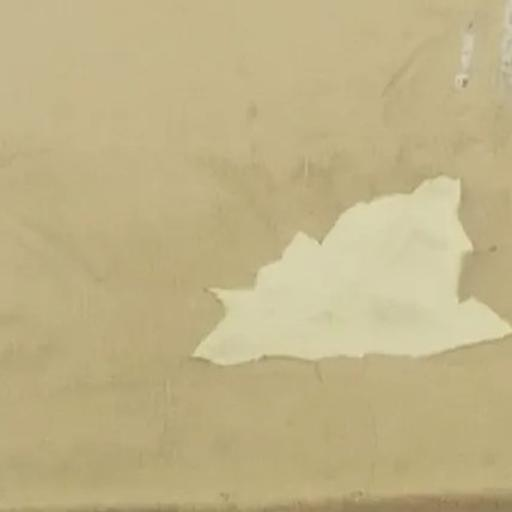peeling: (191, 166, 512, 375)
